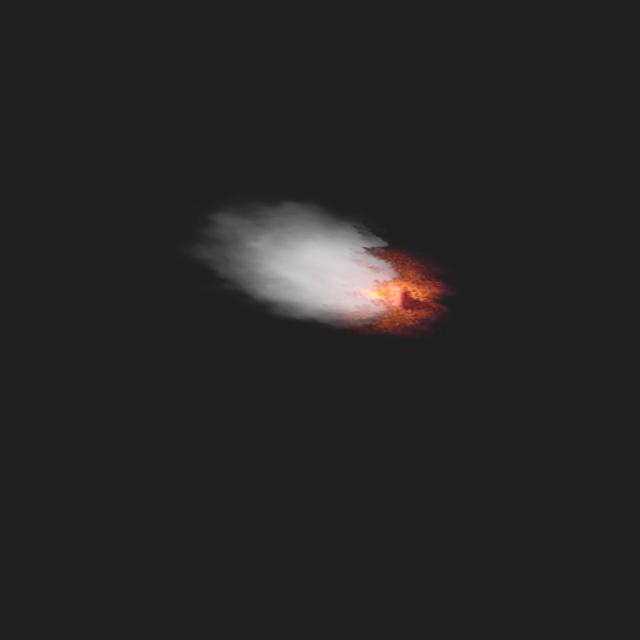fire: (354, 264, 441, 312)
smoke: (181, 186, 403, 332)
